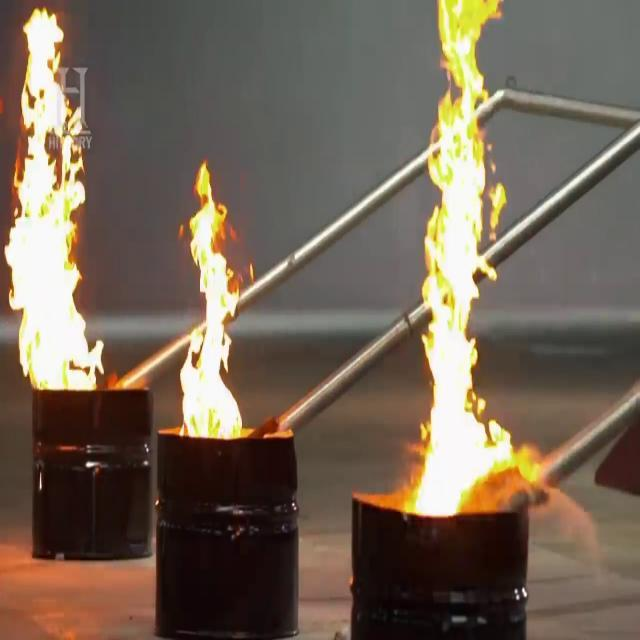Fire: (411, 10, 531, 508), (8, 12, 112, 398), (177, 160, 251, 444)
